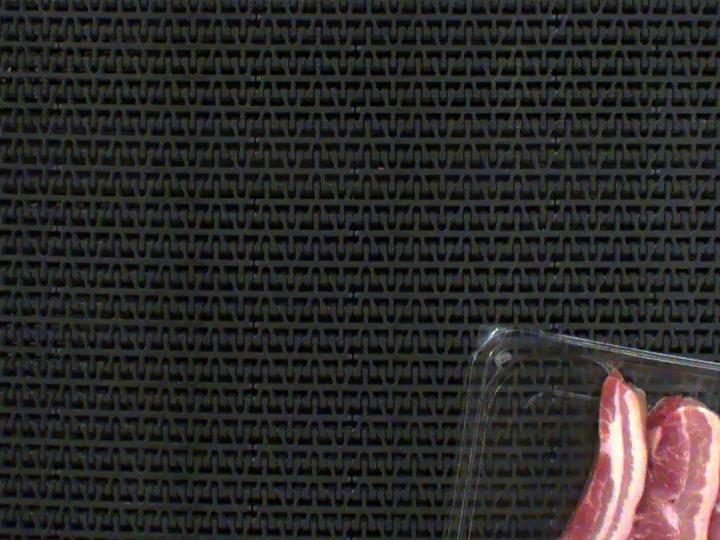packaging-error: (578, 348, 634, 383)
